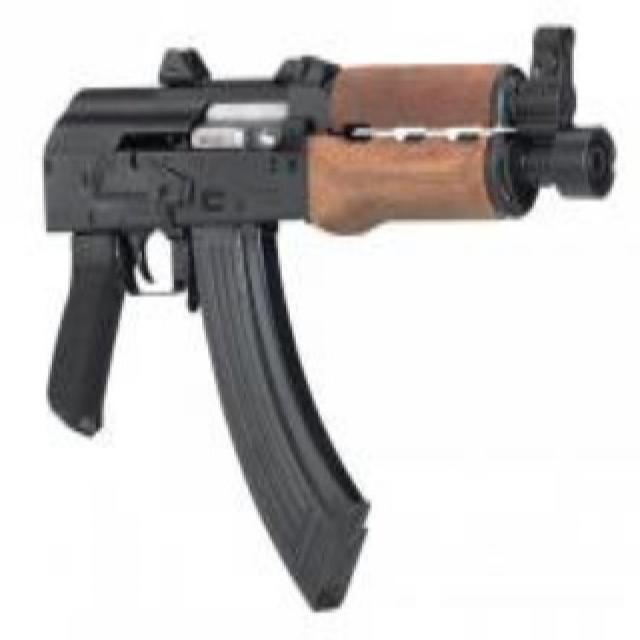weapon: (32, 18, 620, 610)
